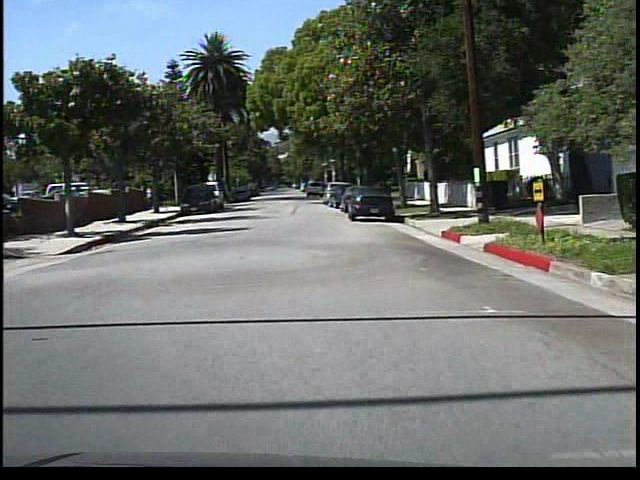person: (144, 183, 157, 212)
